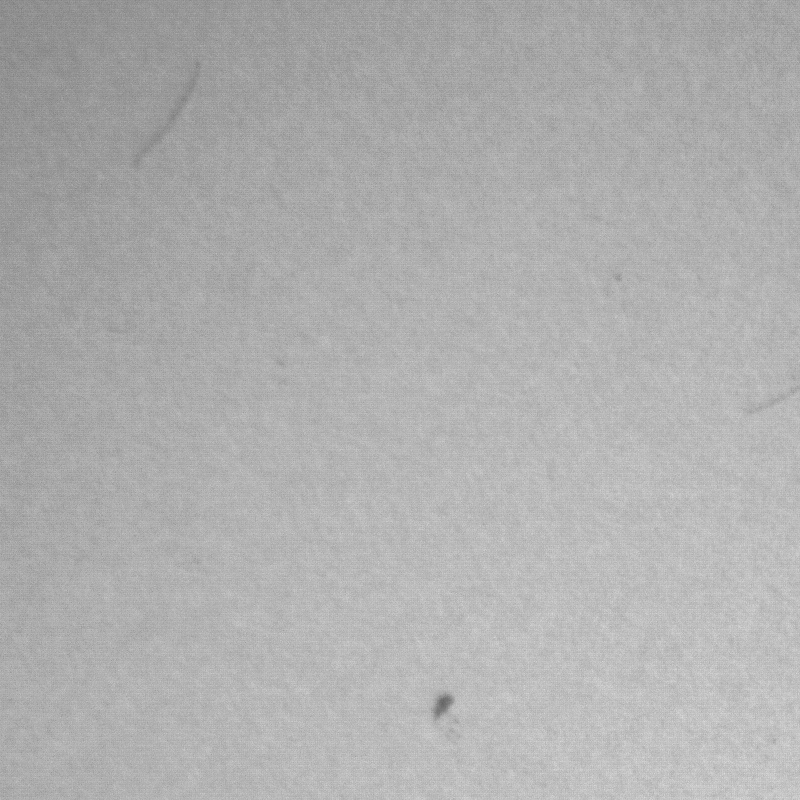defect: (129, 57, 200, 171), (428, 686, 462, 731), (753, 385, 799, 414)
